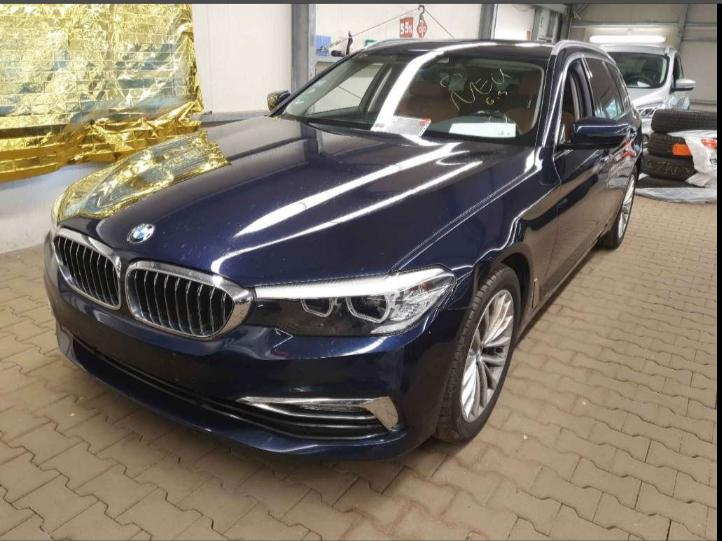Back-door: (582, 54, 638, 243)
Back-wheel: (596, 167, 637, 249)
Back-window: (585, 59, 622, 118), (606, 63, 628, 110)
Fender: (392, 149, 560, 316)
Front-bumper: (43, 234, 471, 460)
Front-door: (540, 149, 610, 300), (553, 54, 593, 159)
Front-wheel: (432, 265, 520, 443)
Front-window: (561, 60, 593, 142)
Grille: (124, 259, 251, 340), (53, 228, 121, 311)
Headlight: (253, 266, 454, 335), (51, 193, 65, 227)
Hood: (58, 116, 534, 321)
Mirror: (559, 118, 628, 149), (267, 91, 290, 111)
Quarter-panel: (628, 108, 643, 153)
Rocker-panel: (518, 225, 610, 339)
Roof: (365, 39, 556, 58)
Windshield: (273, 50, 546, 146)
